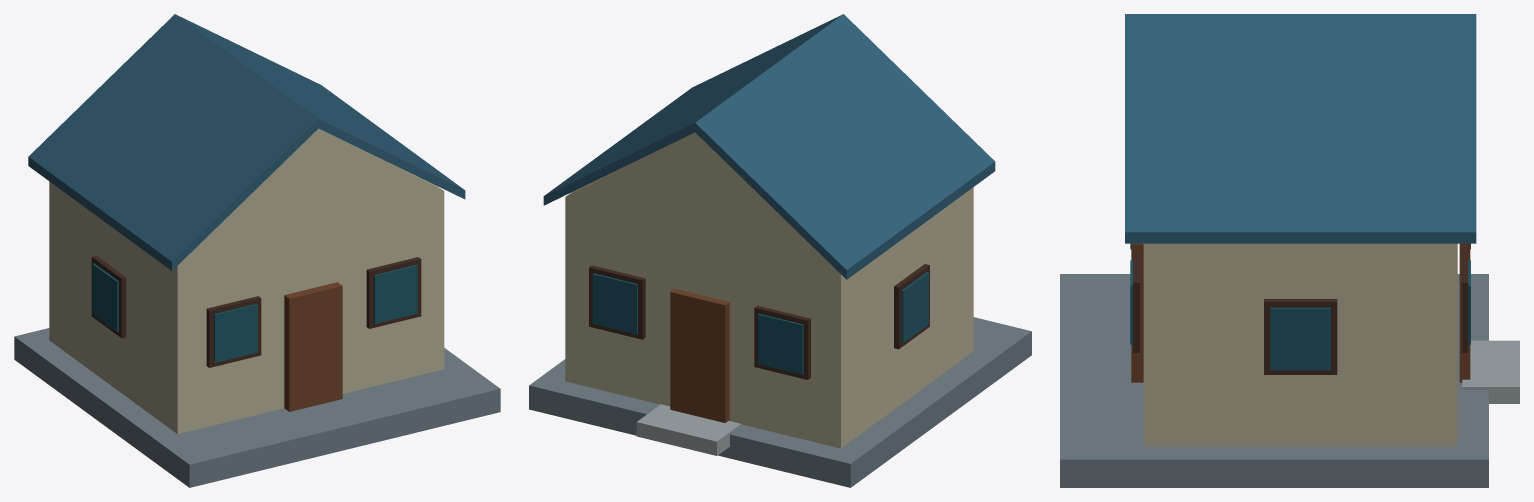
The model's file is Blockland_VillageHouse_Simple.glb.
The picture shows the model from 3 angles, left to right: view 1: azimuth 30°, elevation 25°; view 2: azimuth 150°, elevation 25°; view 3: azimuth 270°, elevation 25°; orthographic projection. The views are drawn at different scales.
Visible parts, largest first — view 1: Blockland_VillageHouse_Simple; view 2: Blockland_VillageHouse_Simple; view 3: Blockland_VillageHouse_Simple.
Part boxes in pixels (box(x1,y1,x2,y2)): Blockland_VillageHouse_Simple: box(14, 14, 500, 487); Blockland_VillageHouse_Simple: box(529, 14, 1031, 487); Blockland_VillageHouse_Simple: box(1060, 14, 1519, 487).
Bounding box in the file's own units: 4.2 × 4.02 × 4.39.
